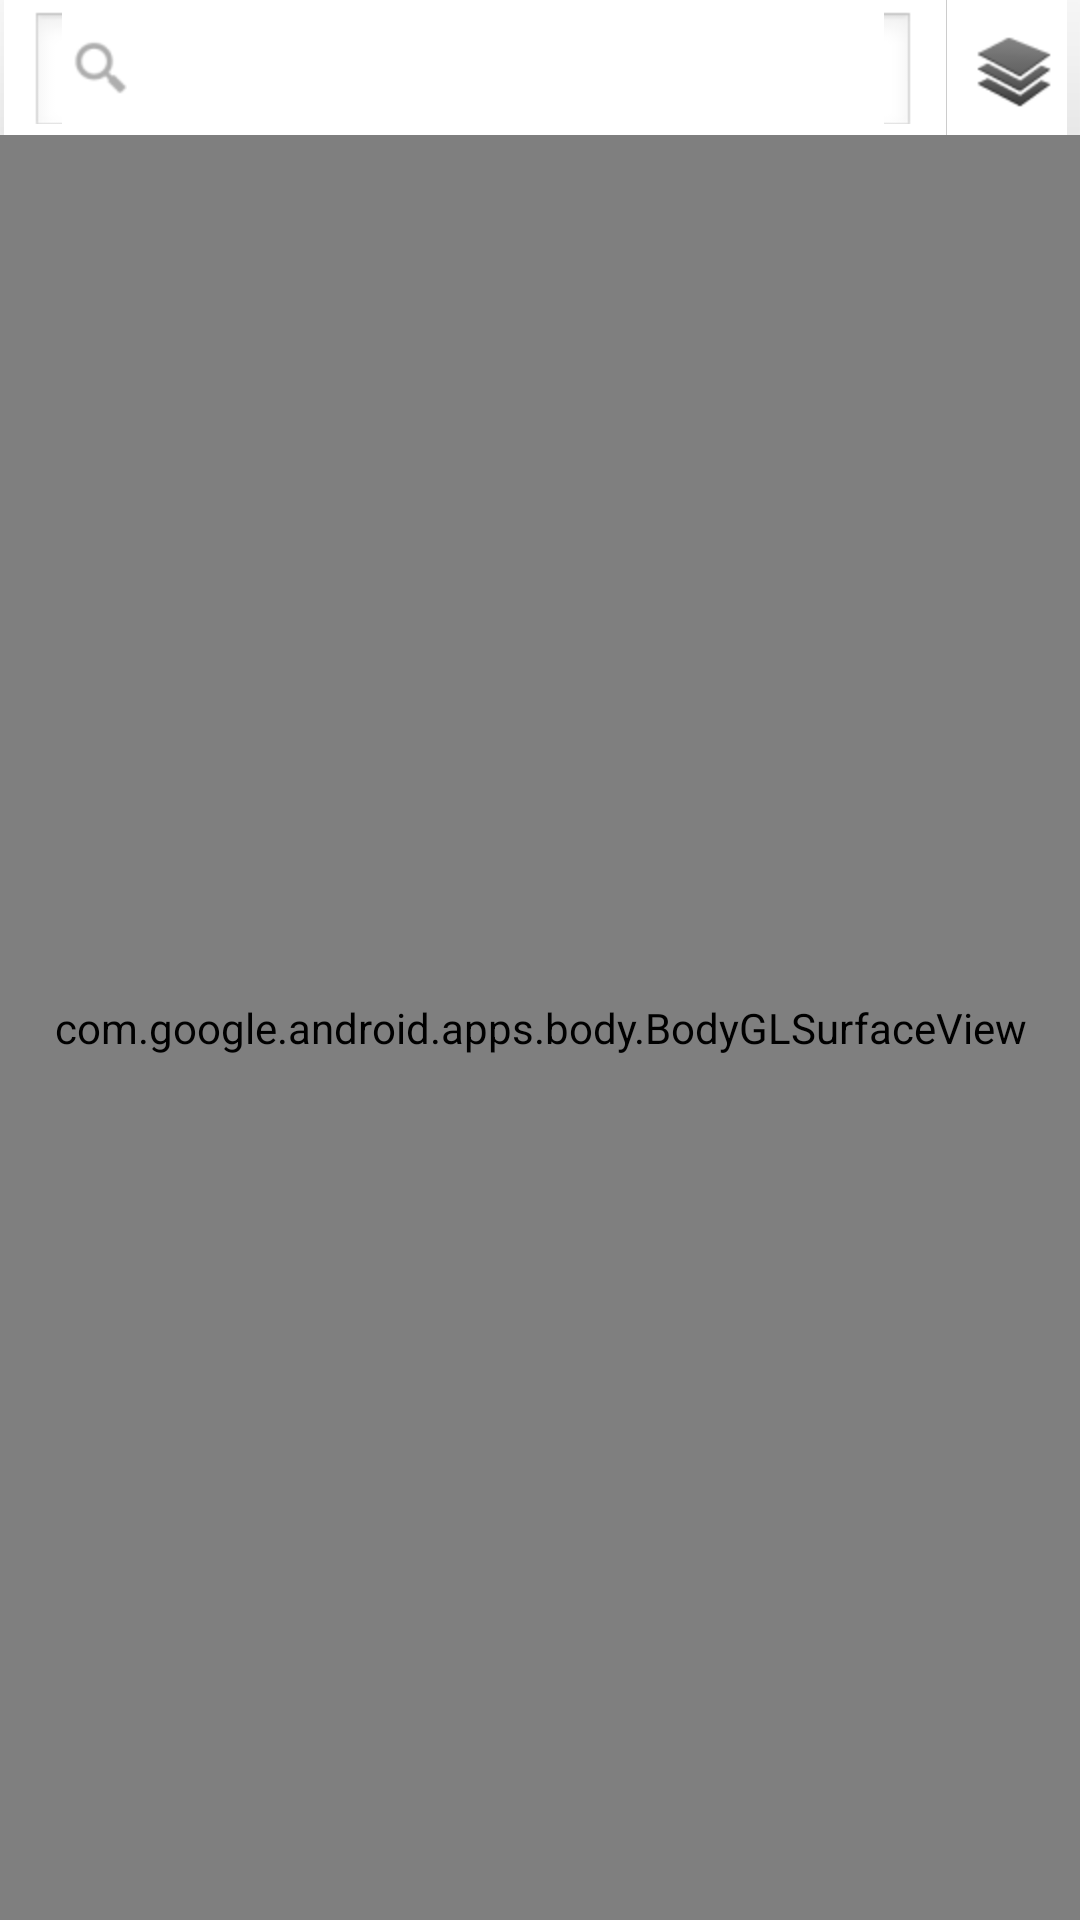

Icon bounding boxes for this 1080×1920 phone screenshot, format bbox(x1, y1, x2, y2):
magnifying glass: bbox(75, 43, 126, 93)
show layers: bbox(977, 37, 1051, 107)
